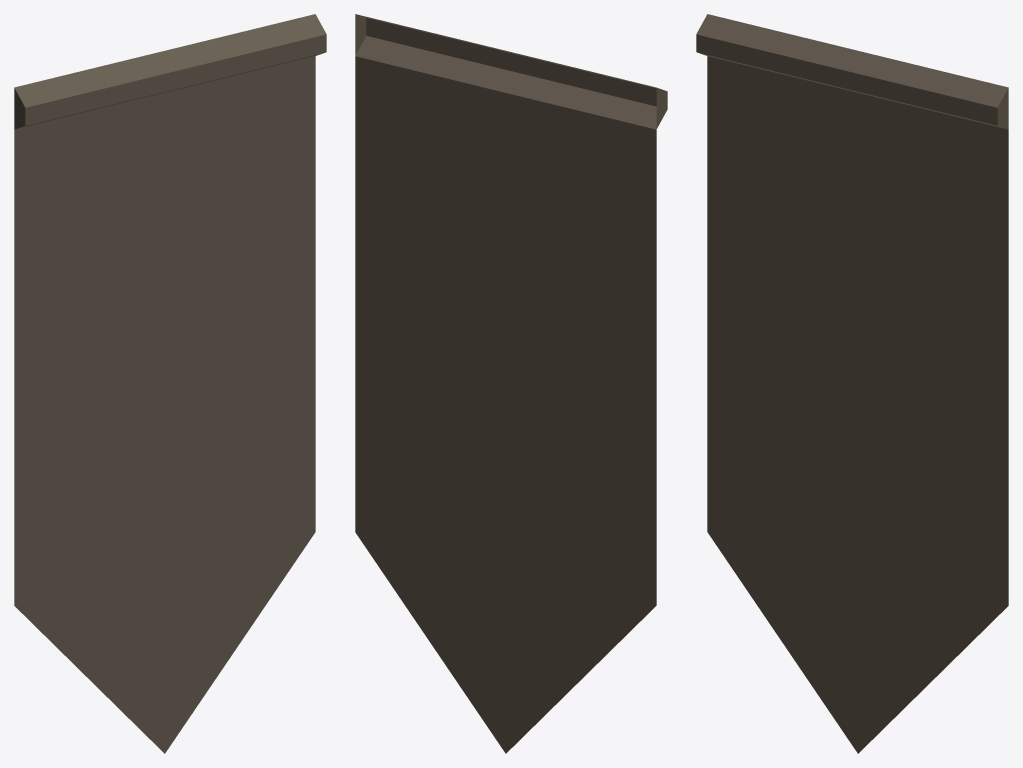
Rendered from Flag.fbx.
3 views of the same model, side by side, from view 1: azimuth 30°, elevation 25°; view 2: azimuth 150°, elevation 25°; view 3: azimuth 330°, elevation 25° (orthographic).
Parts seen in each view (by area): view 1: Flag; view 2: Flag; view 3: Flag.
Part boxes in pixels (<box>): Flag: <box>14,14,326,753</box>; Flag: <box>355,14,667,753</box>; Flag: <box>696,14,1008,753</box>.
Bounding box in the file's own units: 132 × 295 × 8.54.
